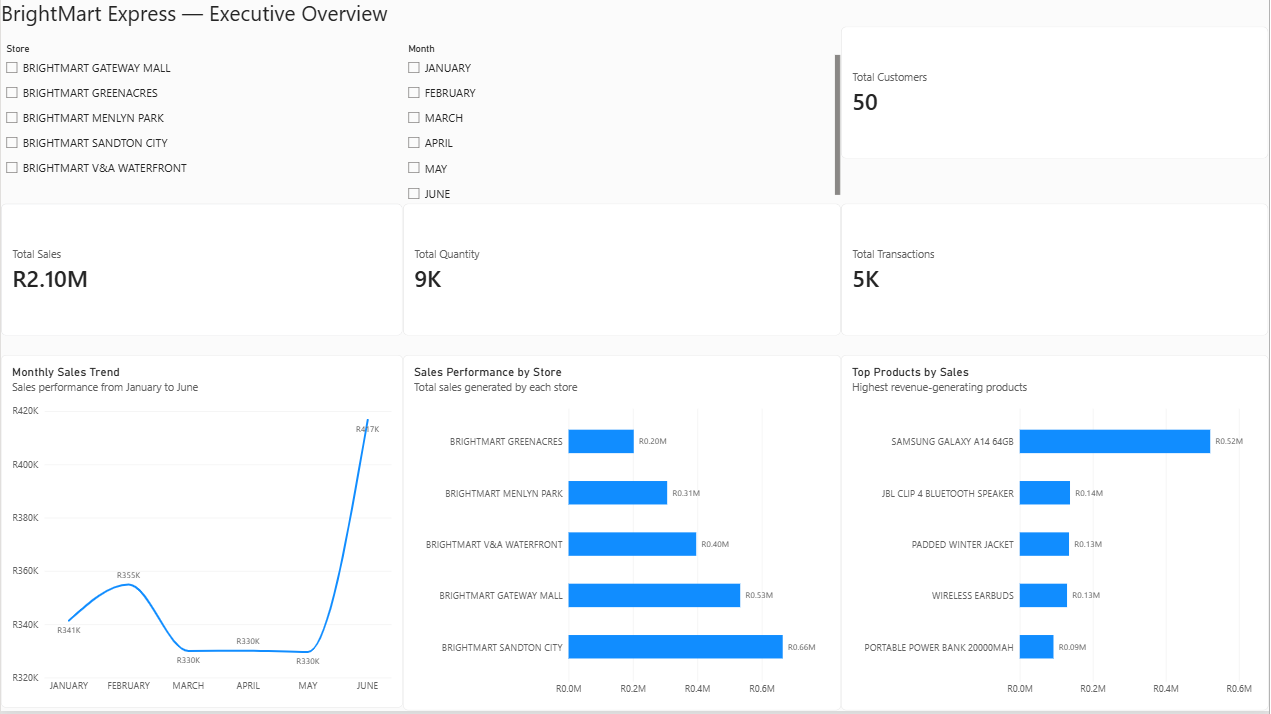

The dashboard page shown, as its layout file describes it:
{"tool":"powerbi","page":{"name":"Executive Overview","canvas":[1920,1080],"ordinal":0},"visuals":[{"type":"cardVisual","fields":{"Data":["dwh_fact_sales.Total Sales"]},"box":[0,311.2,608.3,200],"z":0},{"type":"cardVisual","fields":{"Data":["dwh_fact_sales.Total Quantity"]},"box":[608.7,311.2,663.2,200],"z":1},{"type":"cardVisual","fields":{"Data":["dwh_fact_sales.Total Transactions"]},"box":[1271.9,311.2,647.3,200],"z":2},{"type":"lineChart","title":"Monthly Sales Trend","fields":{"Category":["dwh_dim_date.month_name"],"Y":["dwh_fact_sales.Total Sales"]},"box":[0,540.6,608.7,533.8],"z":3},{"type":"clusteredBarChart","title":"Sales Performance by Store","fields":{"Category":["dwh_dim_store.store_name"],"Y":["dwh_fact_sales.Total Sales"]},"box":[608.7,540.6,663.2,538.3],"z":4},{"type":"clusteredBarChart","title":"Top Products by Sales","fields":{"Category":["dwh_dim_product.product_name"],"Y":["dwh_fact_sales.Total Sales"]},"box":[1271.9,540.6,647.3,538.3],"z":5},{"type":"slicer","fields":{"Values":["dwh_dim_store.store_name"]},"box":[0,68.9,608.3,241.6],"z":6},{"type":"slicer","fields":{"Values":["dwh_dim_date.month_name"]},"box":[608.9,68.9,662.2,242.2],"z":7},{"type":"cardVisual","fields":{"Data":["dwh_fact_sales.Total Customers"]},"box":[1271.9,43.2,647.3,200],"z":8},{"type":"textbox","box":[0,0,608.9,68.9],"z":9}]}

Visuals, with their boxes in screenshot pixels (x1, y1, x2, y2), scaled from the page's 1920x1080 canvas onto the 1271x714 screenshot:
cardVisual - dwh_fact_sales.Total Sales: region(0, 206, 403, 338)
cardVisual - dwh_fact_sales.Total Quantity: region(403, 206, 842, 338)
cardVisual - dwh_fact_sales.Total Transactions: region(842, 206, 1270, 338)
"Monthly Sales Trend" lineChart: region(0, 357, 403, 710)
"Sales Performance by Store" clusteredBarChart: region(403, 357, 842, 713)
"Top Products by Sales" clusteredBarChart: region(842, 357, 1270, 713)
slicer - dwh_dim_store.store_name: region(0, 46, 403, 205)
slicer - dwh_dim_date.month_name: region(403, 46, 841, 206)
cardVisual - dwh_fact_sales.Total Customers: region(842, 29, 1270, 161)
textbox: region(0, 0, 403, 46)
